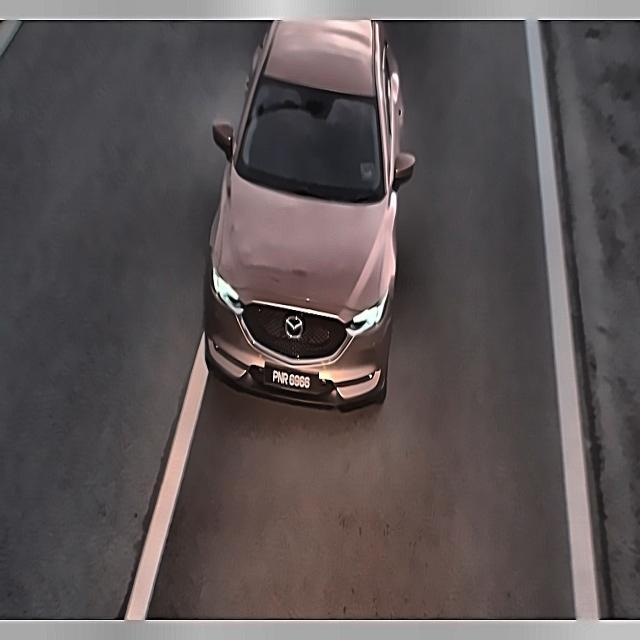car: (261, 359, 321, 400)
